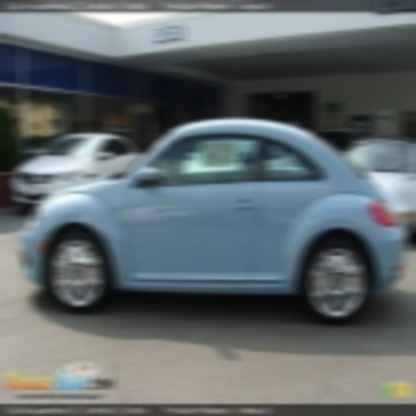Vehicle: (22, 114, 406, 325)
